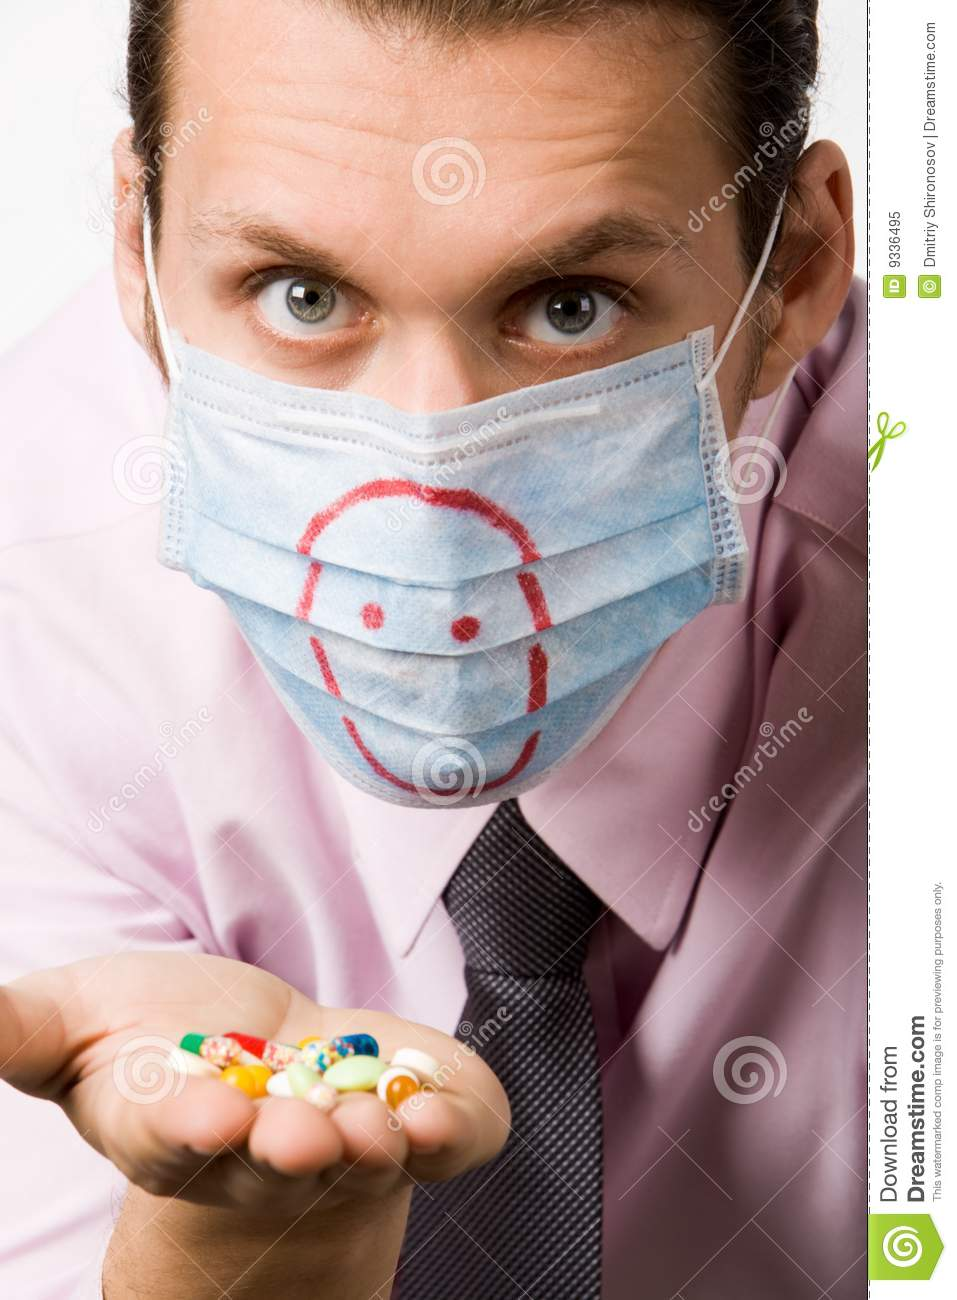mask: (158, 353, 744, 819)
